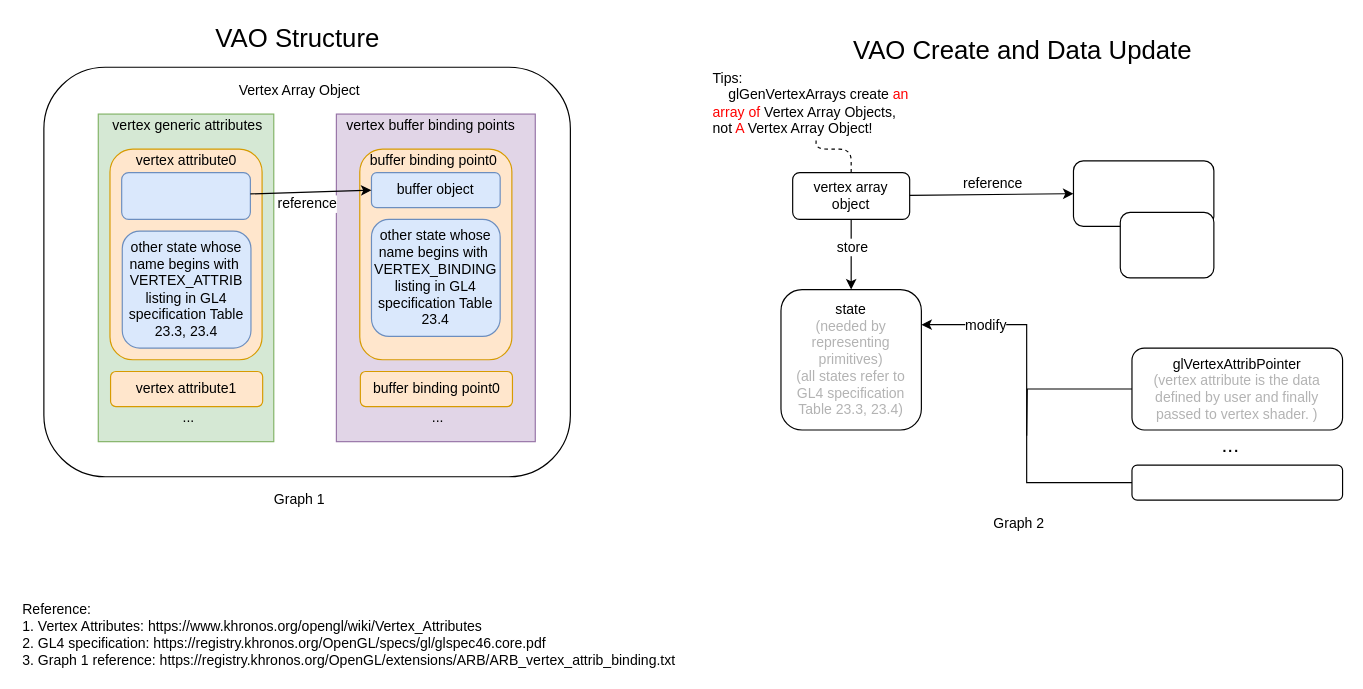
This 1363x689 diagram has some shape labels left out. The shapes that lost their labels are listed below. From the top down, each one's centre as x and y in pixels, then its label:
At pixel 185 195: "buffer binding point reference".
At pixel 1143 193: "vertex buffer object".
At pixel 1166 244: "data (copy from client)".
At pixel 1237 482: "glEnableVertexAttribArray".
